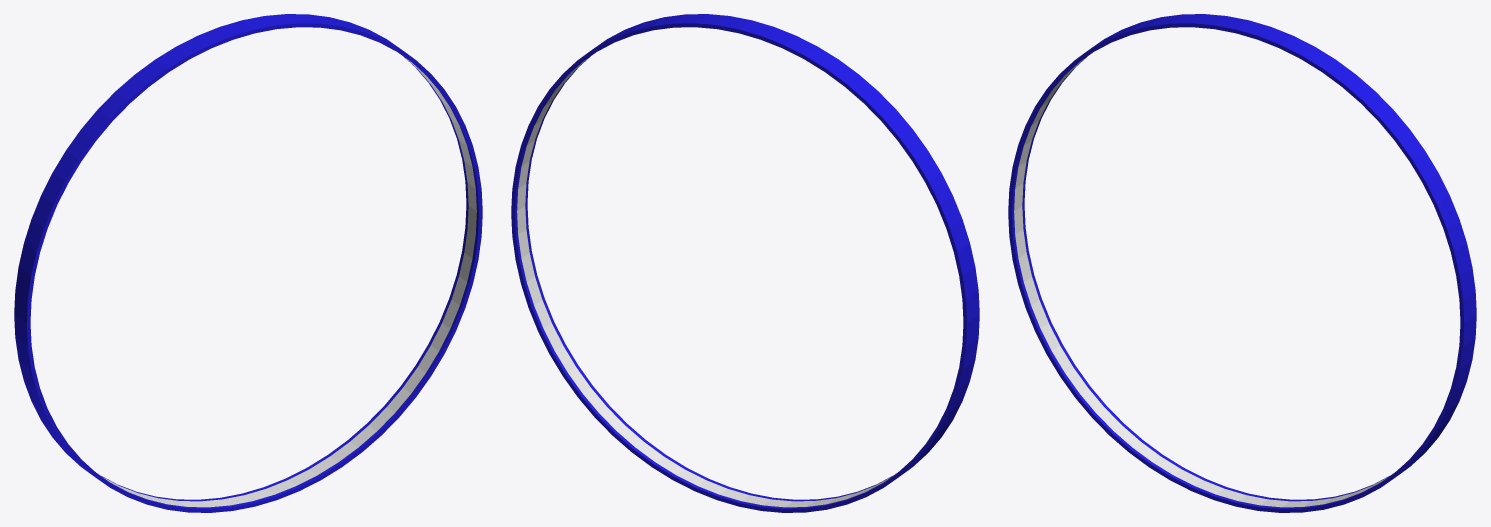
Rendered from nivenring.fbx.
3 renders of one model, left to right at view 1: azimuth 30°, elevation 25°; view 2: azimuth 150°, elevation 25°; view 3: azimuth 330°, elevation 25°, orthographic.
Visible parts, largest first — view 1: Cylinder; view 2: Cylinder; view 3: Cylinder.
Part boxes in pixels (x1=…): Cylinder: x1=14, y1=14, x2=482, y2=512; Cylinder: x1=511, y1=14, x2=979, y2=512; Cylinder: x1=1008, y1=14, x2=1476, y2=512.
Bounding box in the file's own units: 1000 × 1000 × 47.98.
